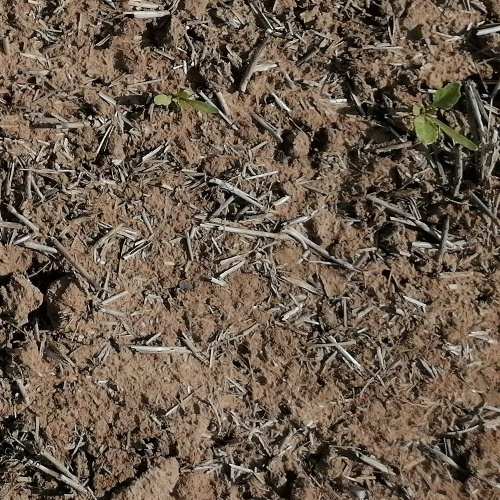beet: (410, 80, 481, 154), (154, 86, 221, 118)
